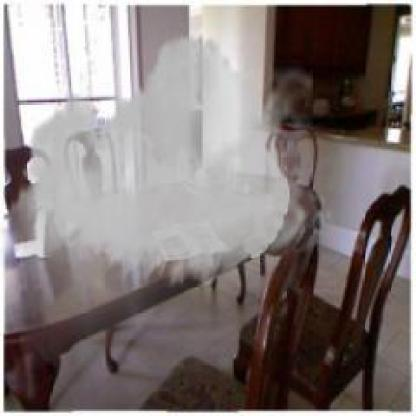Smoke: (0, 21, 335, 390)
